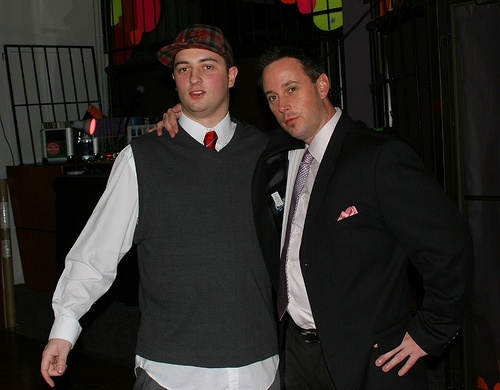head: (259, 49, 332, 142), (172, 25, 237, 113)
person: (46, 28, 280, 388), (259, 54, 471, 376)
